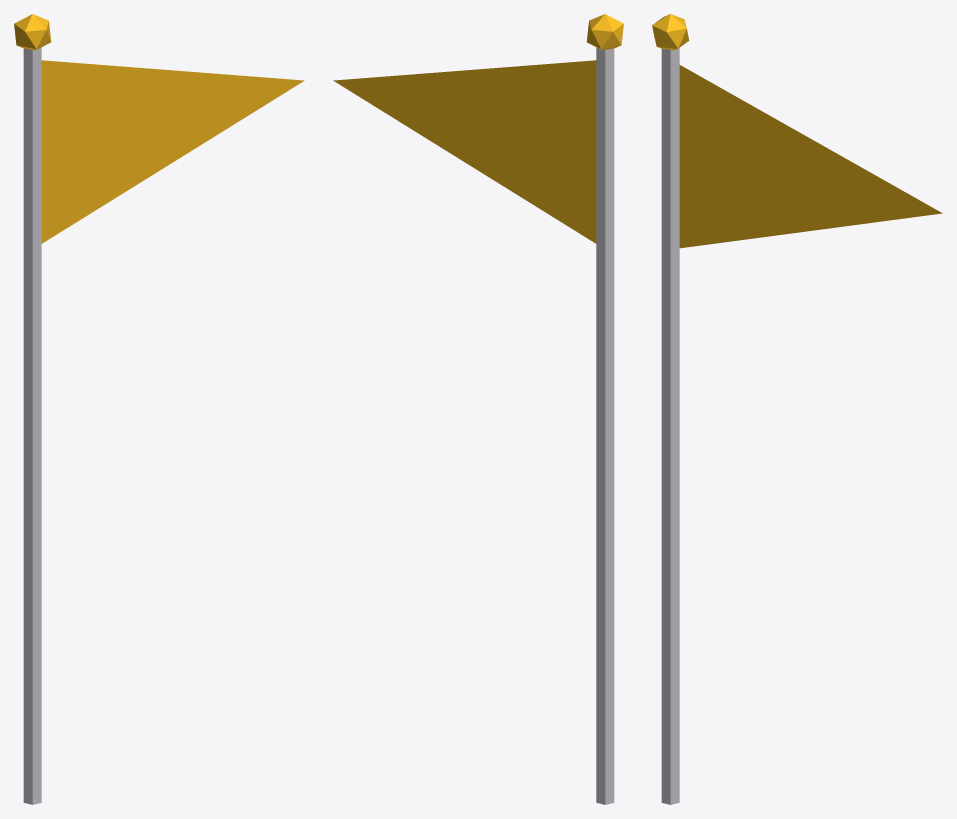
The model's file is flag.glb.
3 views of the same model, side by side, from view 1: azimuth 30°, elevation 25°; view 2: azimuth 150°, elevation 25°; view 3: azimuth 330°, elevation 25° (orthographic).
Parts seen in each view (by area): view 1: BestFlag; view 2: BestFlag; view 3: BestFlag.
Part boxes in pixels (bbox=[...]): BestFlag: bbox=[14, 14, 304, 804]; BestFlag: bbox=[333, 14, 623, 804]; BestFlag: bbox=[652, 14, 942, 804].
Bounding box in the file's own units: 0.7947 × 2.07 × 0.0851.
